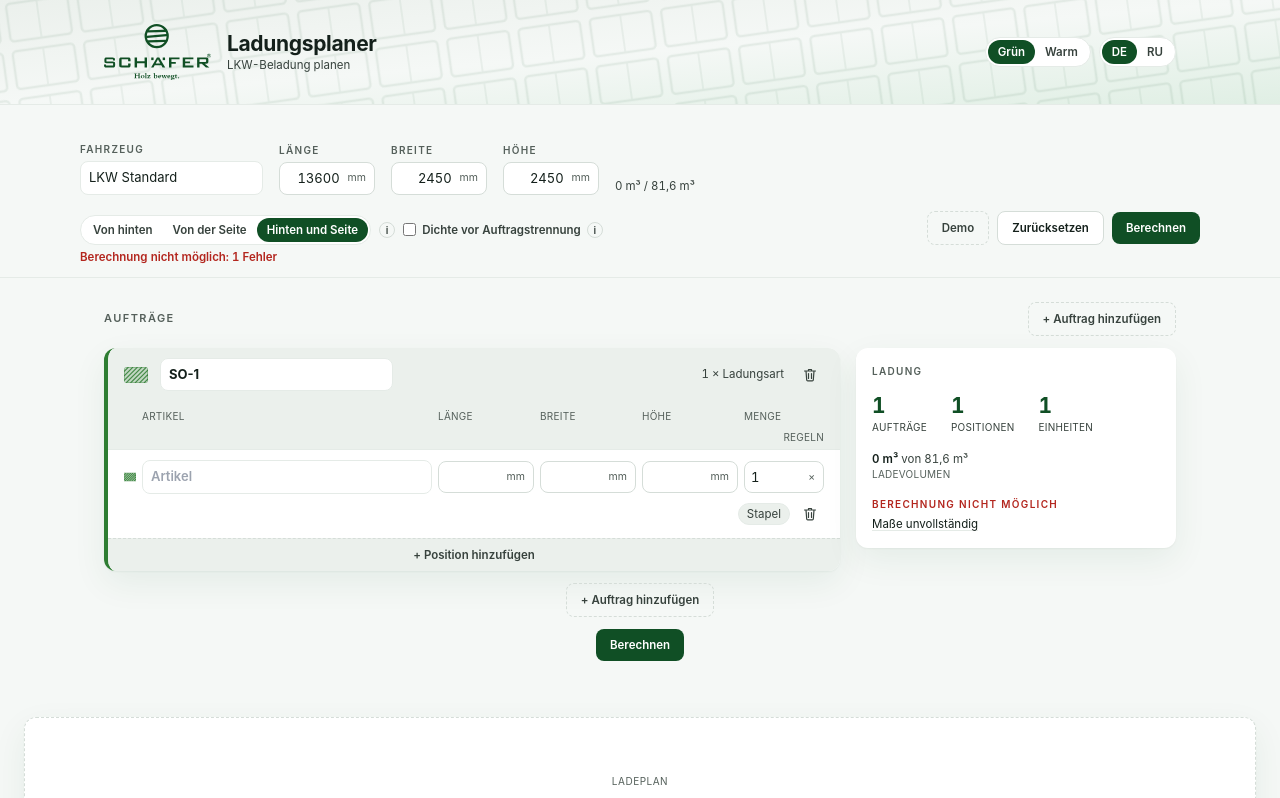
Scenario: App shell (single page) › strategy is preserved across a Setup recompute (4bj.12) › Demo is a transient preview — it does not overwrite the persisted setup or plan (QA)
Replace the text in the field named "Auftrags-ID" with "SO-42" at (276, 375), box [160, 358, 393, 391]
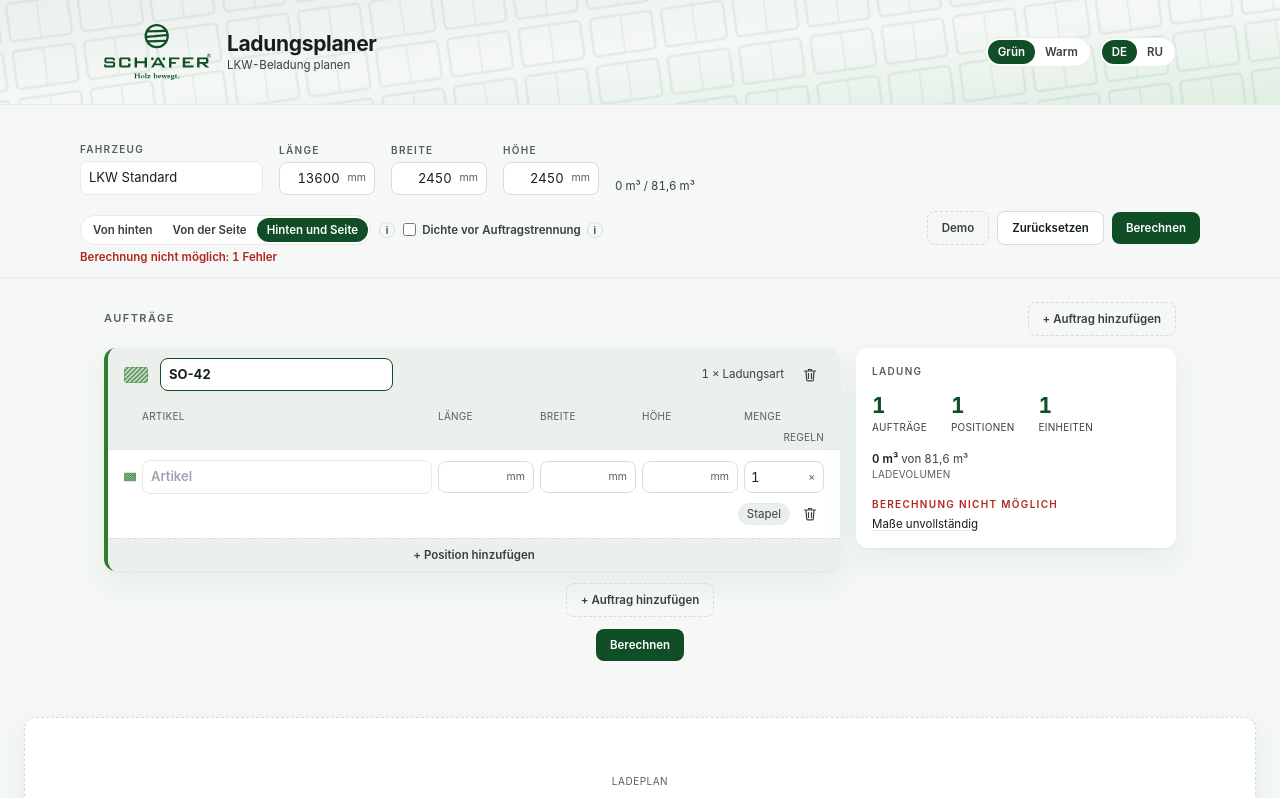
Type "1200" into the number field named "Länge" at (472, 477), box [439, 462, 505, 492]
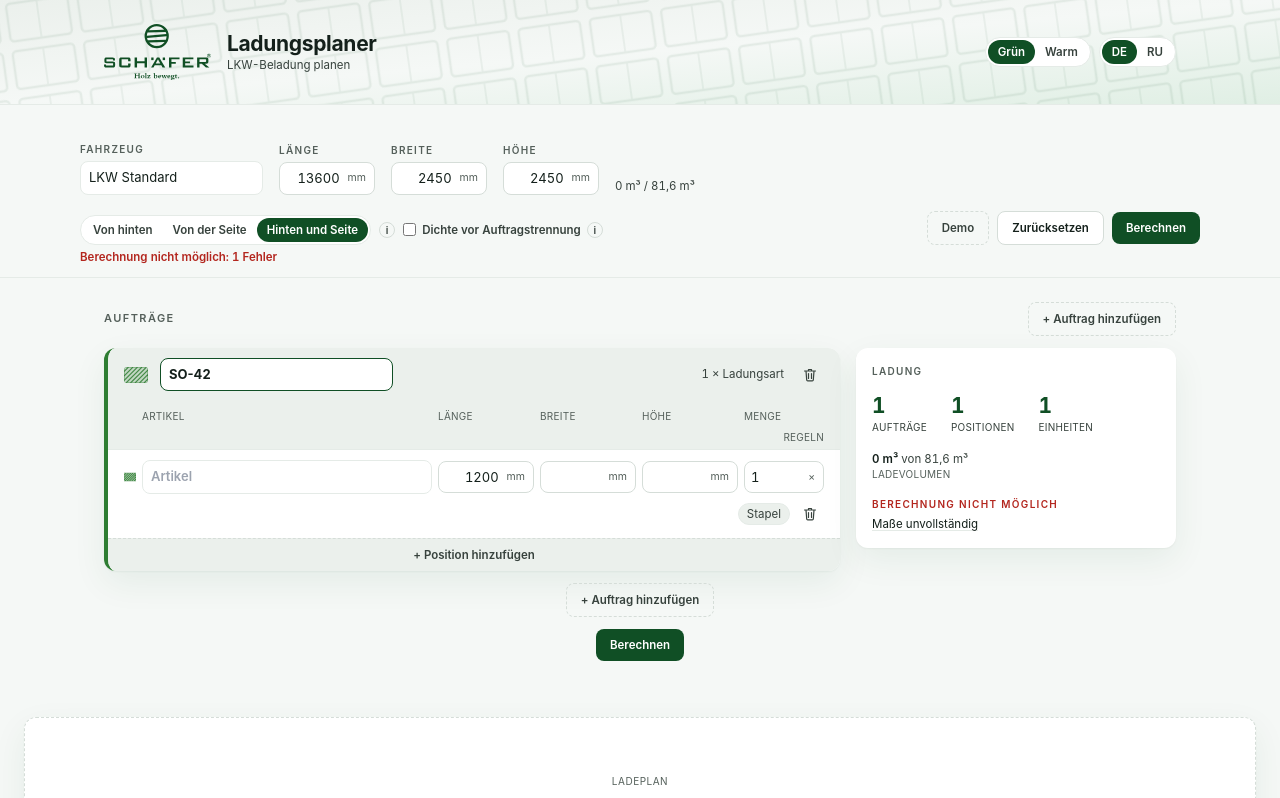
Type "800" into the number field named "Breite" at (574, 477), box [541, 462, 607, 492]
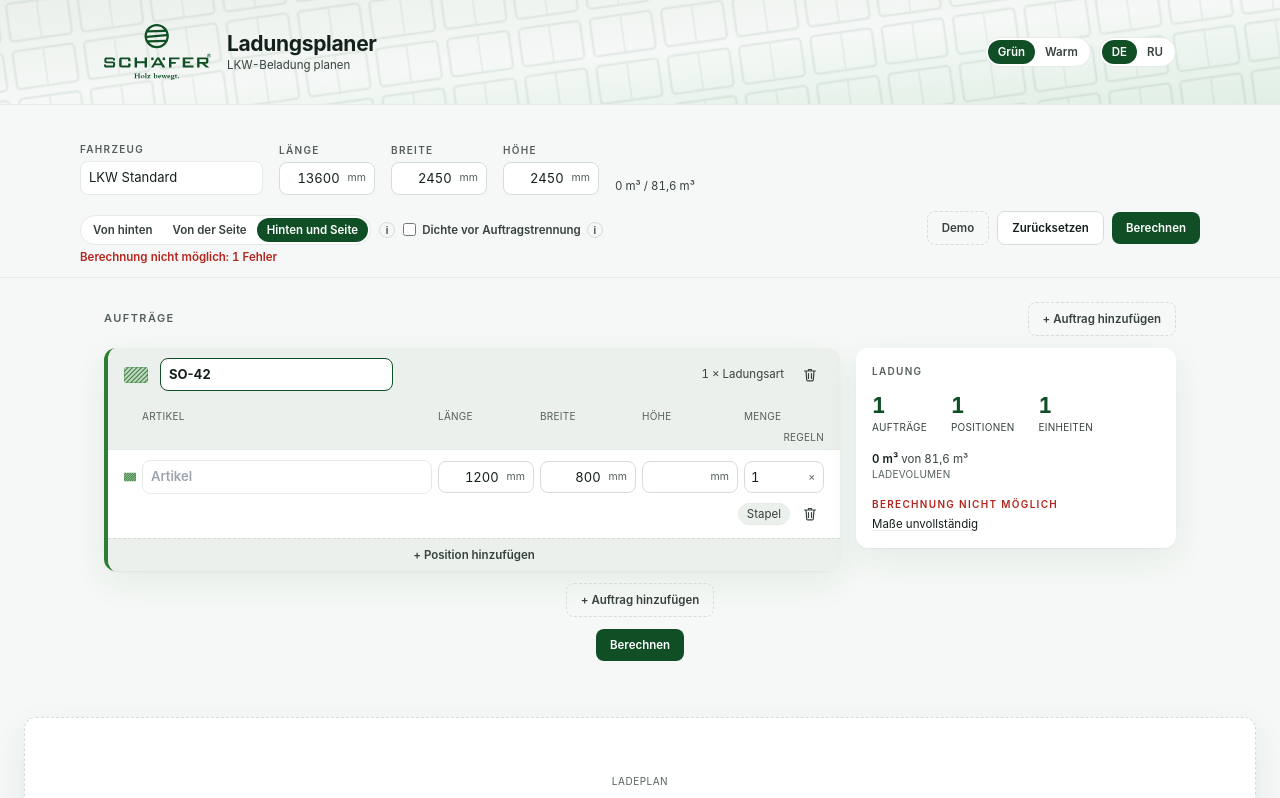
Type "144" into the number field named "Höhe" at (676, 477), box [643, 462, 709, 492]
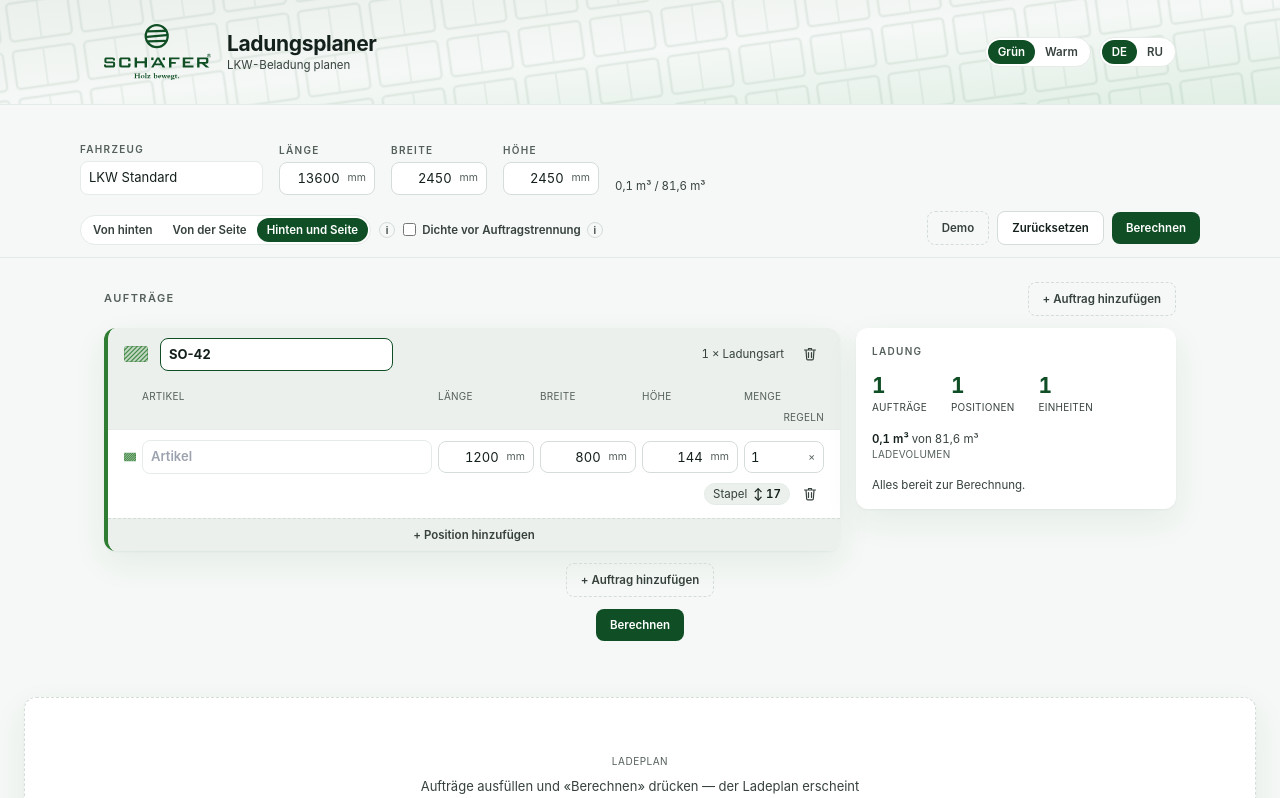
Click the button "Berechnen" in the row of "Dichte vor Auftragstrennung" at (1156, 228), box [1112, 212, 1200, 244]
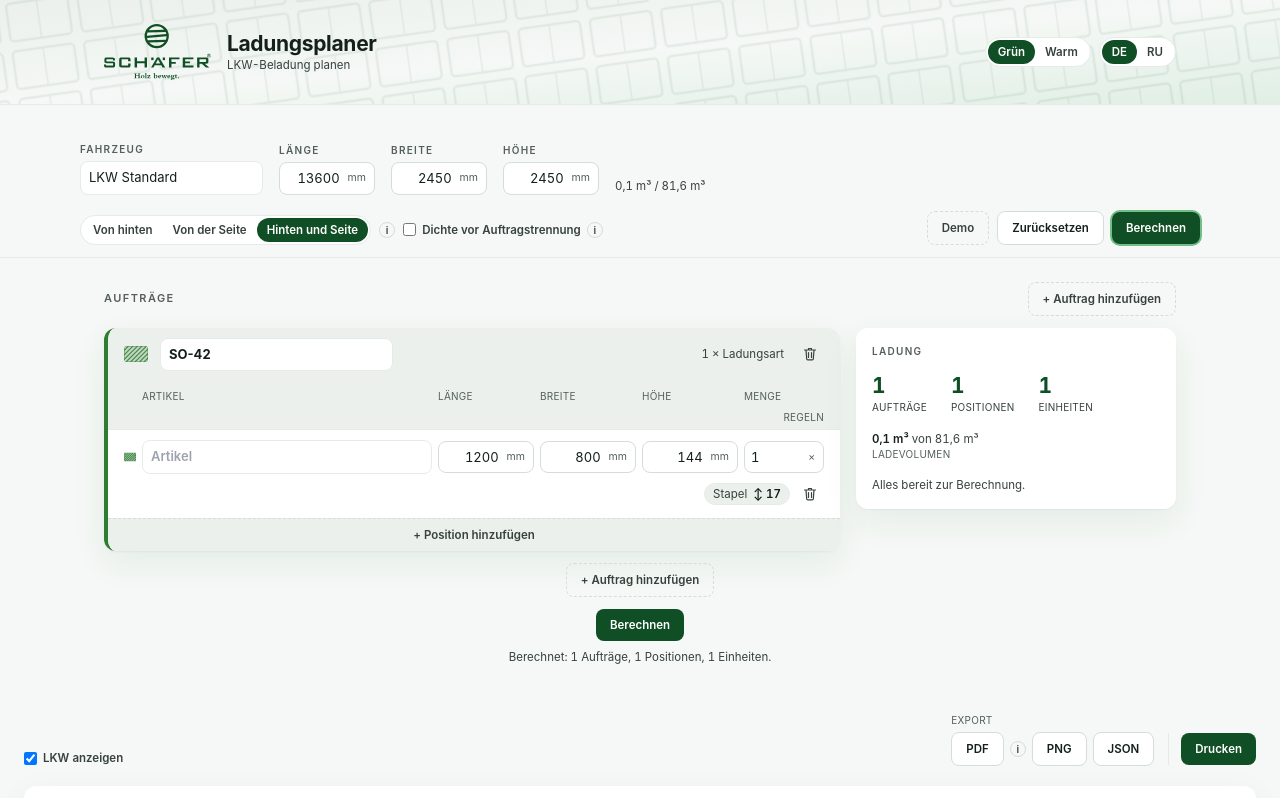
Click the button "Demo" at (958, 228), box [927, 210, 989, 245]
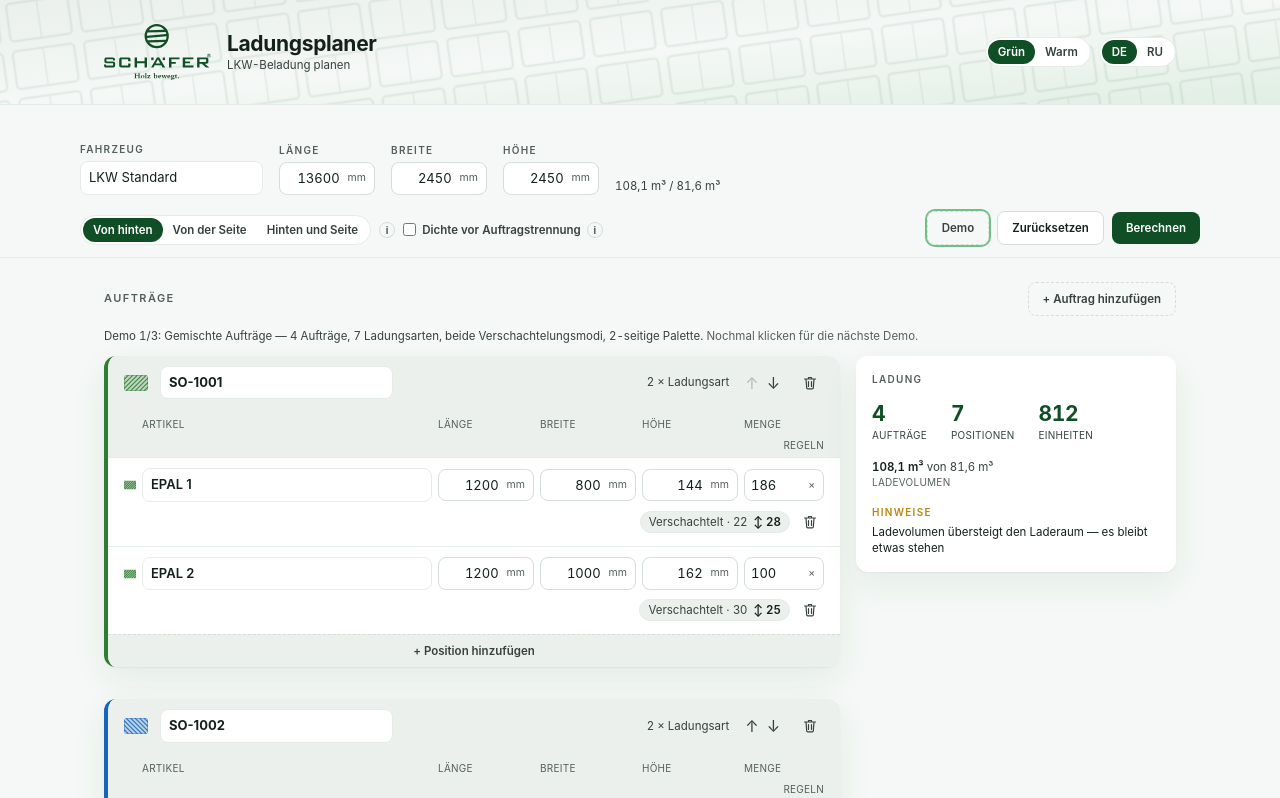
Result: the 1st field named "Auftrags-ID" holds "SO-1001" at [160, 366, 393, 399]
